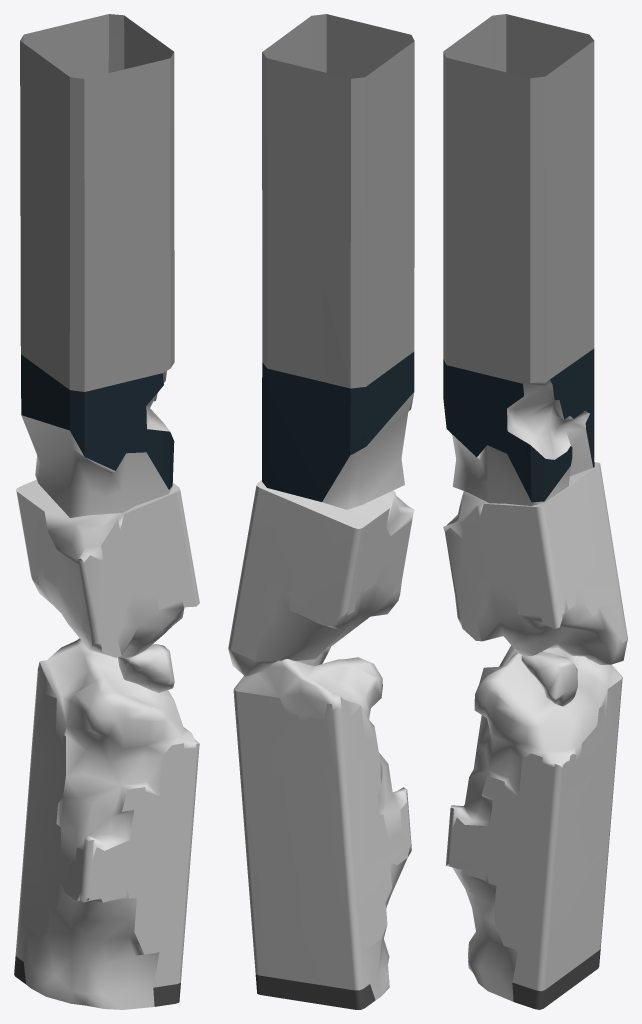
The model's file is SM_H_Building_Tide_Bathhouse_01D_ATLAS.fbx.
The picture shows the model from 3 angles, left to right: view 1: azimuth 30°, elevation 25°; view 2: azimuth 150°, elevation 25°; view 3: azimuth 330°, elevation 25°; orthographic projection.
Visible parts, largest first — view 1: SM_H_Building_Tide_Bathhouse_01D_ATLAS; view 2: SM_H_Building_Tide_Bathhouse_01D_ATLAS; view 3: SM_H_Building_Tide_Bathhouse_01D_ATLAS.
Part boxes in pixels (x1,y1,x2,y2): SM_H_Building_Tide_Bathhouse_01D_ATLAS: (14, 14, 199, 1009); SM_H_Building_Tide_Bathhouse_01D_ATLAS: (228, 14, 414, 1009); SM_H_Building_Tide_Bathhouse_01D_ATLAS: (443, 14, 627, 1009).
Bounding box in the file's own units: 145 × 114 × 957.
